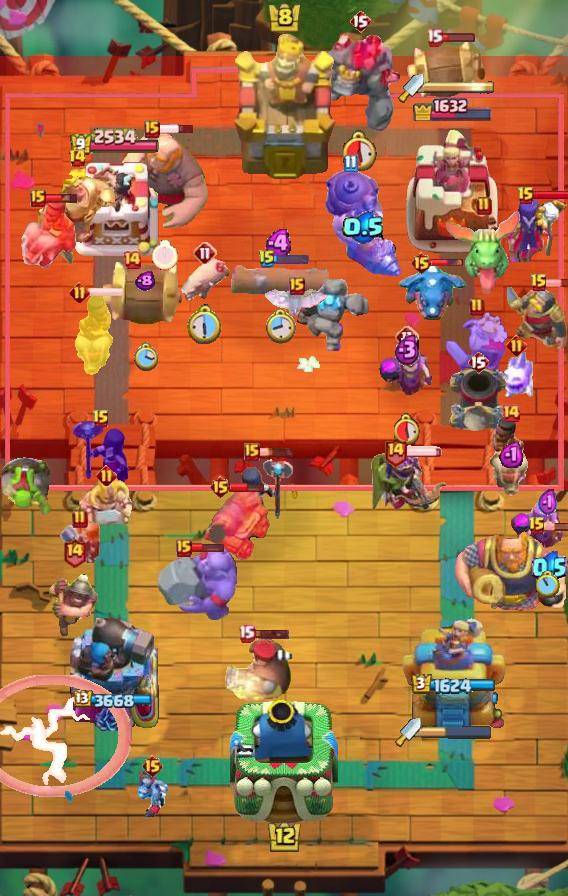bar: (405, 445, 443, 457), (253, 628, 290, 640), (258, 446, 295, 458), (88, 286, 125, 298), (158, 123, 195, 135), (44, 192, 79, 204), (229, 482, 265, 493), (274, 254, 310, 265), (440, 32, 476, 43), (190, 542, 225, 553), (533, 190, 568, 201), (430, 258, 464, 268), (544, 521, 568, 532), (546, 278, 568, 288)
bar-level: (62, 537, 87, 568), (383, 436, 408, 467), (395, 325, 419, 349), (193, 241, 217, 265), (141, 754, 164, 778), (209, 475, 232, 499), (410, 251, 433, 275), (467, 350, 489, 374), (349, 9, 371, 33), (96, 465, 117, 486), (506, 335, 527, 356), (69, 282, 90, 303), (501, 403, 521, 423), (122, 250, 142, 270), (68, 148, 87, 168), (528, 516, 546, 536), (92, 409, 110, 429), (530, 273, 548, 293), (258, 249, 276, 269), (517, 186, 535, 206), (238, 624, 255, 643), (426, 28, 443, 47), (72, 509, 88, 529), (469, 297, 485, 317), (476, 196, 492, 216), (176, 539, 192, 557), (244, 443, 260, 461), (289, 277, 305, 295), (30, 189, 46, 207), (144, 120, 160, 138), (343, 154, 358, 173)
barbarian-barrel: (100, 260, 190, 328), (404, 38, 488, 100)
bat-evolution: (263, 288, 331, 318)
cannoneer-tower: (68, 611, 160, 731)
clock: (187, 304, 224, 345), (343, 130, 378, 171), (265, 309, 296, 345), (394, 413, 421, 445), (152, 240, 178, 270), (133, 342, 158, 372), (536, 571, 560, 598)
dagger-duchess-tower: (403, 124, 503, 256), (401, 615, 506, 731)
dagger-duchess-tower-bar: (421, 725, 493, 739), (424, 80, 496, 94)
electro-dragon: (398, 262, 468, 324)
elite-barbarian: (77, 475, 135, 527)
elixir: (342, 211, 385, 244), (532, 550, 567, 585), (394, 333, 421, 366), (265, 229, 295, 258), (499, 440, 523, 468), (538, 488, 558, 518), (135, 271, 155, 291)
goblin-ball: (0, 456, 54, 518)
golemite: (297, 279, 373, 357)
hog: (177, 257, 233, 307)
hunter: (223, 637, 297, 701)
ice-spirit-evolution: (496, 349, 536, 401)
king-tower: (231, 34, 338, 181), (230, 698, 338, 826)
knight: (507, 287, 568, 351)
miner: (47, 567, 101, 641)
minion: (130, 771, 174, 817)
mortar: (446, 366, 510, 432)
mother-witch: (378, 344, 436, 400), (508, 501, 568, 555)
night-witch: (70, 419, 132, 491), (235, 456, 295, 530)
queen-tower: (70, 154, 158, 256)
ram-rider: (17, 194, 77, 270), (489, 416, 533, 498), (70, 295, 114, 377)
royal-ghost: (445, 310, 509, 382)
the-log: (229, 262, 331, 302)
tower-bar: (69, 128, 160, 157), (412, 95, 494, 121), (411, 673, 496, 695), (74, 690, 154, 710)
valkyrie: (58, 520, 102, 570)
witch: (504, 196, 568, 262)
